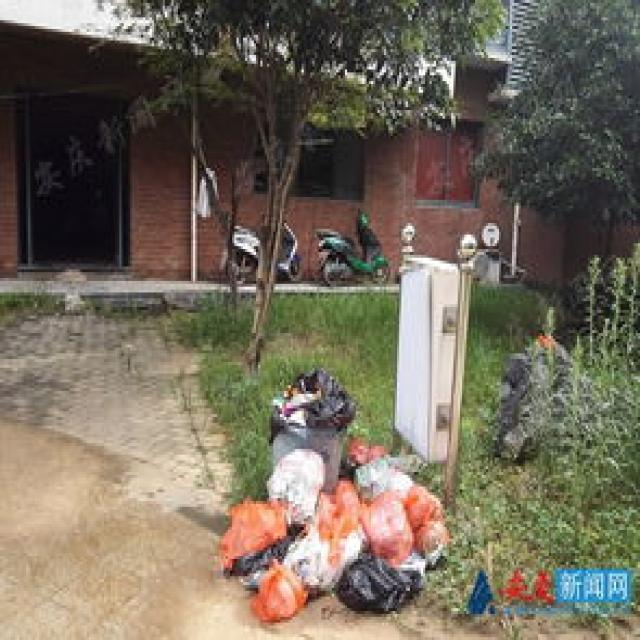garbage: (221, 370, 449, 620)
